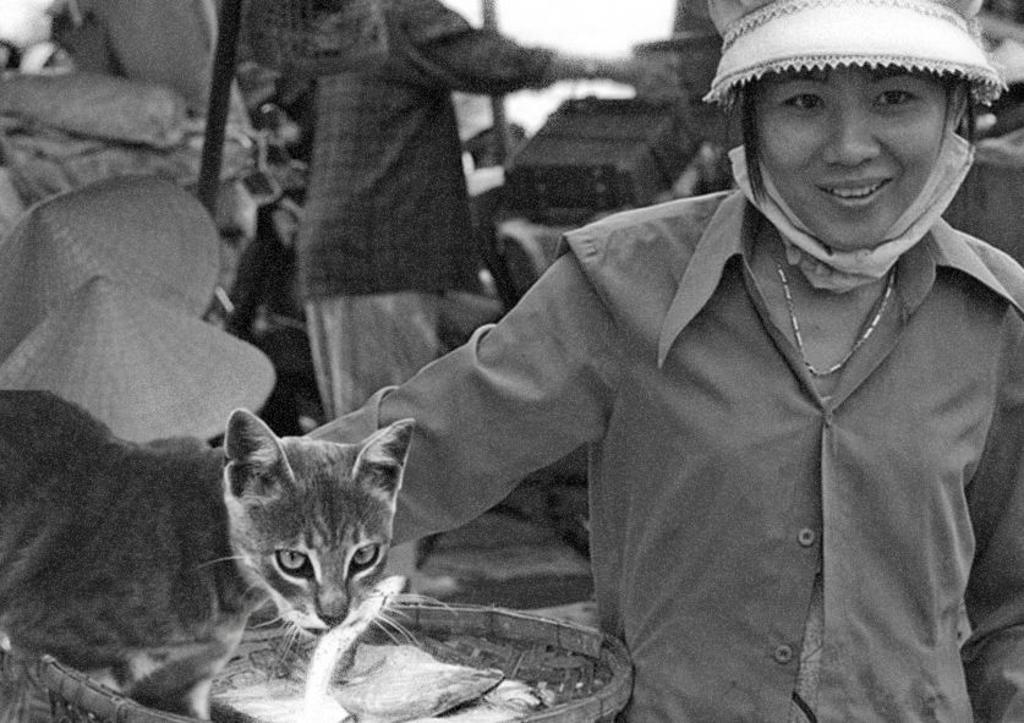Hat: (0, 275, 277, 444), (0, 171, 222, 362), (694, 0, 1008, 113)
